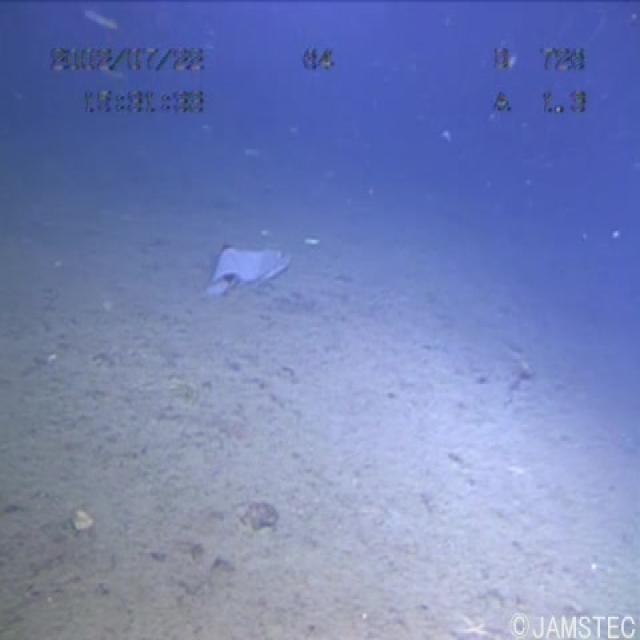plastic: (185, 233, 307, 299)
